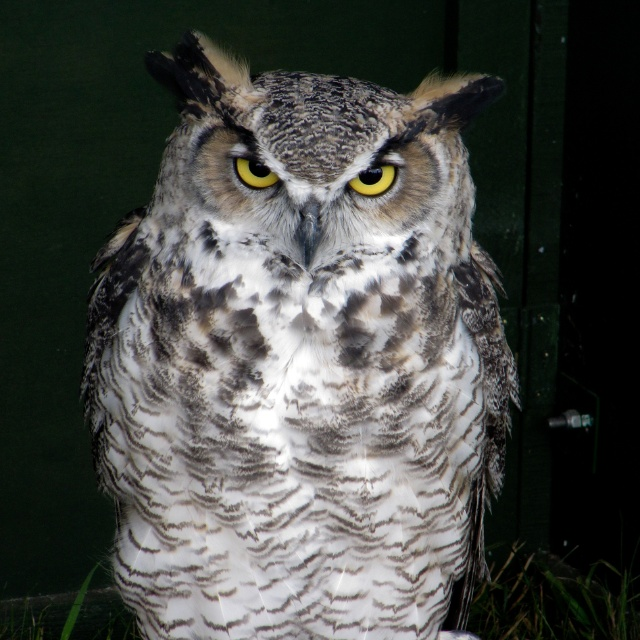Owl: (78, 28, 522, 640)
